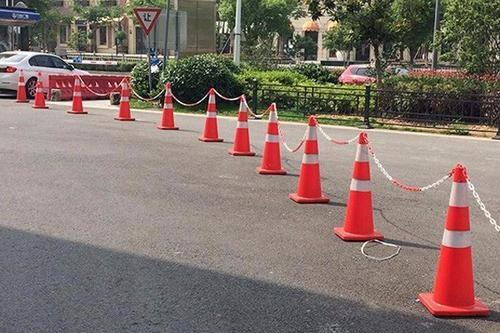cone_barrel: (418, 165, 485, 314), (332, 132, 381, 243), (287, 116, 329, 204), (256, 102, 287, 175), (228, 95, 256, 157), (195, 87, 222, 143), (155, 81, 179, 130), (109, 78, 135, 121), (66, 77, 86, 115), (31, 79, 46, 107), (14, 68, 26, 101), (25, 74, 36, 99)
